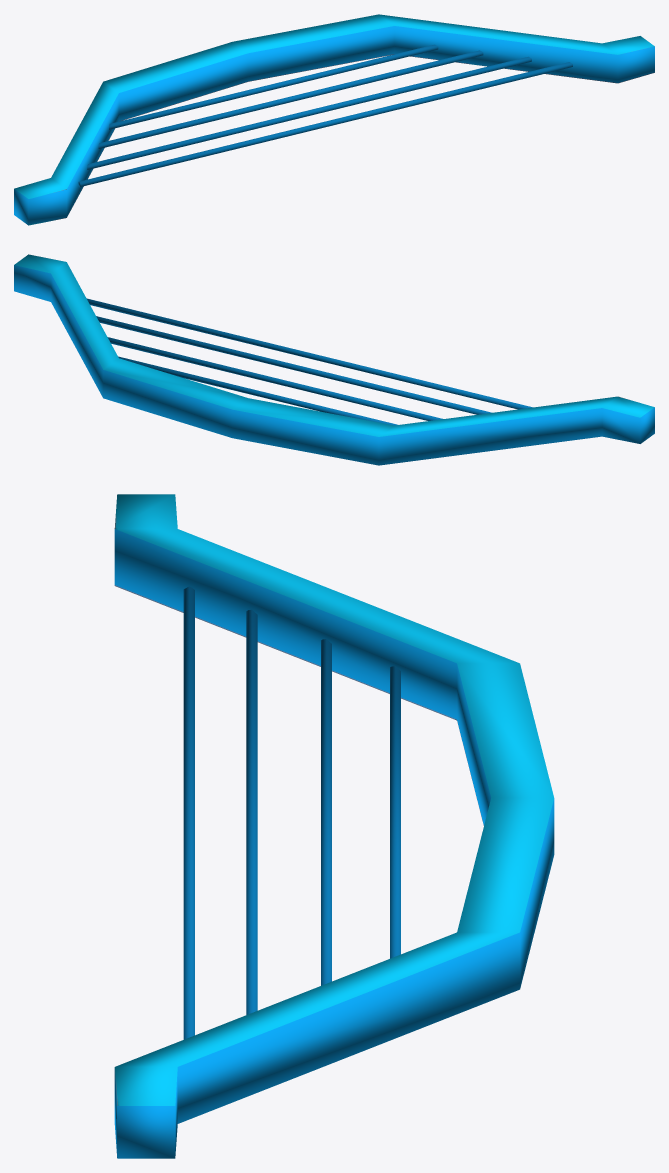
The model's file is Arpa.obj.
3 views of the same model, one above another, from view 1: azimuth 30°, elevation 25°; view 2: azimuth 150°, elevation 25°; view 3: azimuth 270°, elevation 25° (orthographic). The views are drawn at different scales.
Visible parts, largest first — view 1: Arco_Cube; view 2: Arco_Cube; view 3: Arco_Cube.
Part boxes in pixels (x1=…): Arco_Cube: x1=14, y1=14, x2=654, y2=225; Arco_Cube: x1=14, y1=254, x2=654, y2=465; Arco_Cube: x1=114, y1=494, x2=554, y2=1158.
Size of the model in its own units: 9.38 by 0.4087 by 2.85.
Materials: 1 (1 with a texture image).
